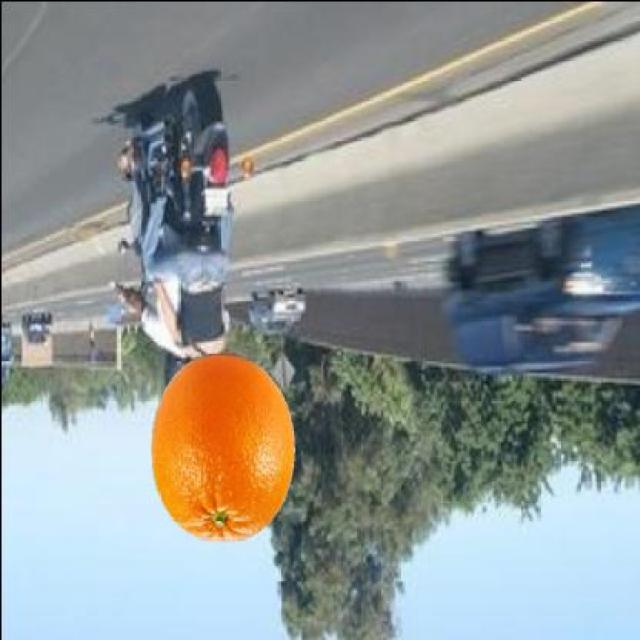Orange: (150, 352, 296, 542)
